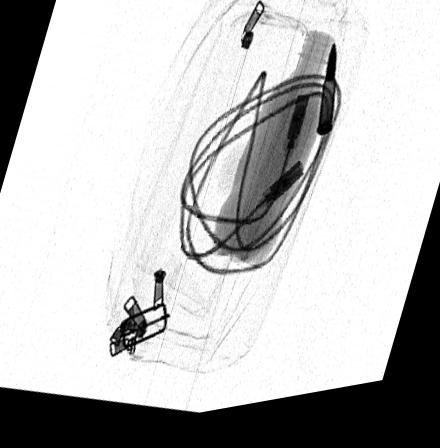Bullet: (313, 50, 336, 149)
